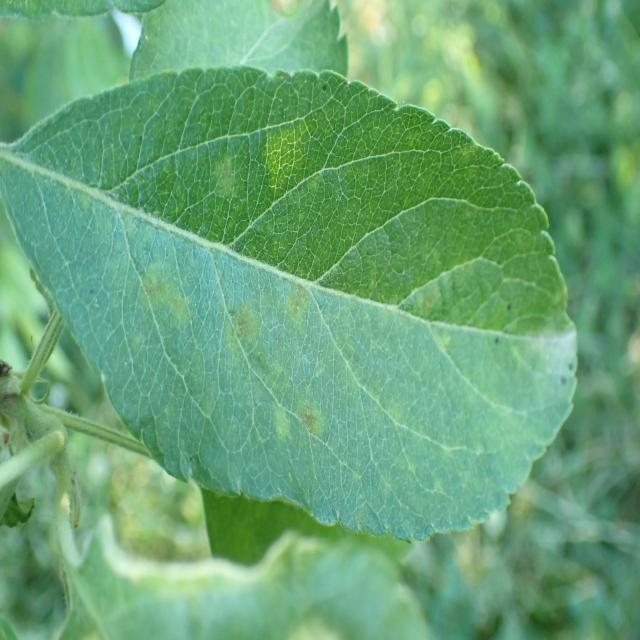scab: (53, 94, 532, 518)
